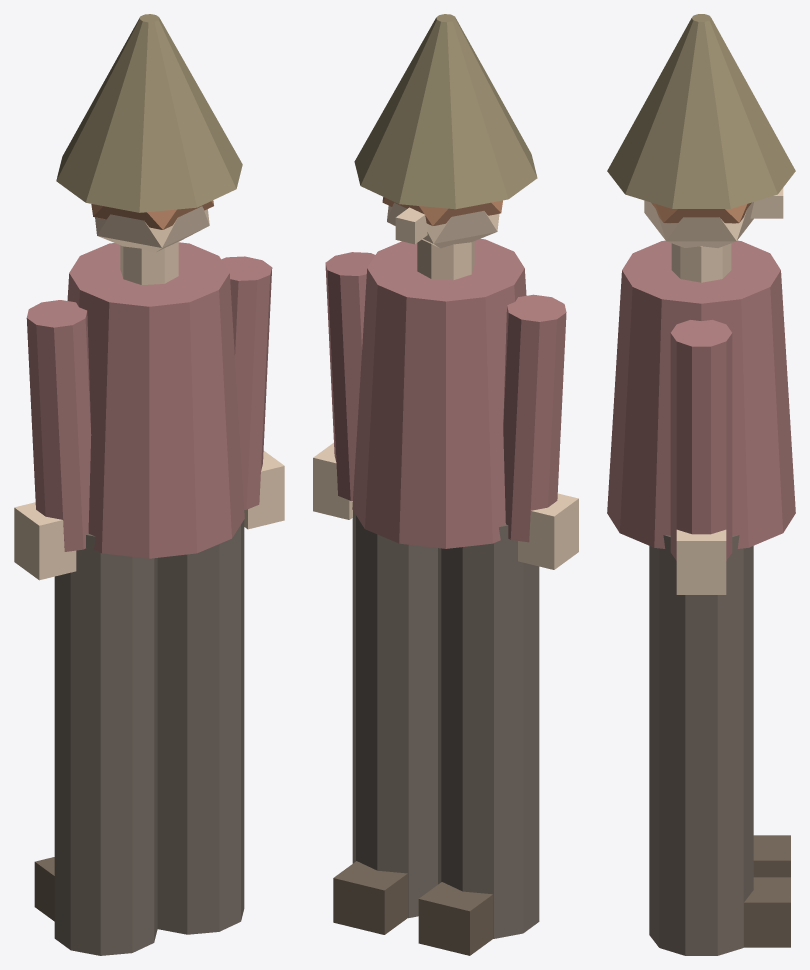
File: young_man.glb
3 renders of one model, left to right at view 1: azimuth 30°, elevation 25°; view 2: azimuth 150°, elevation 25°; view 3: azimuth 270°, elevation 25°, orthographic.
Parts seen in each view (by area): view 1: young_man; view 2: young_man; view 3: young_man.
Part boxes in pixels (x1,y1,x2,y2): young_man: (14, 14, 284, 955); young_man: (313, 14, 578, 955); young_man: (607, 14, 795, 955).
Bounding box in the file's own units: 0.565 × 1.99 × 0.38.
